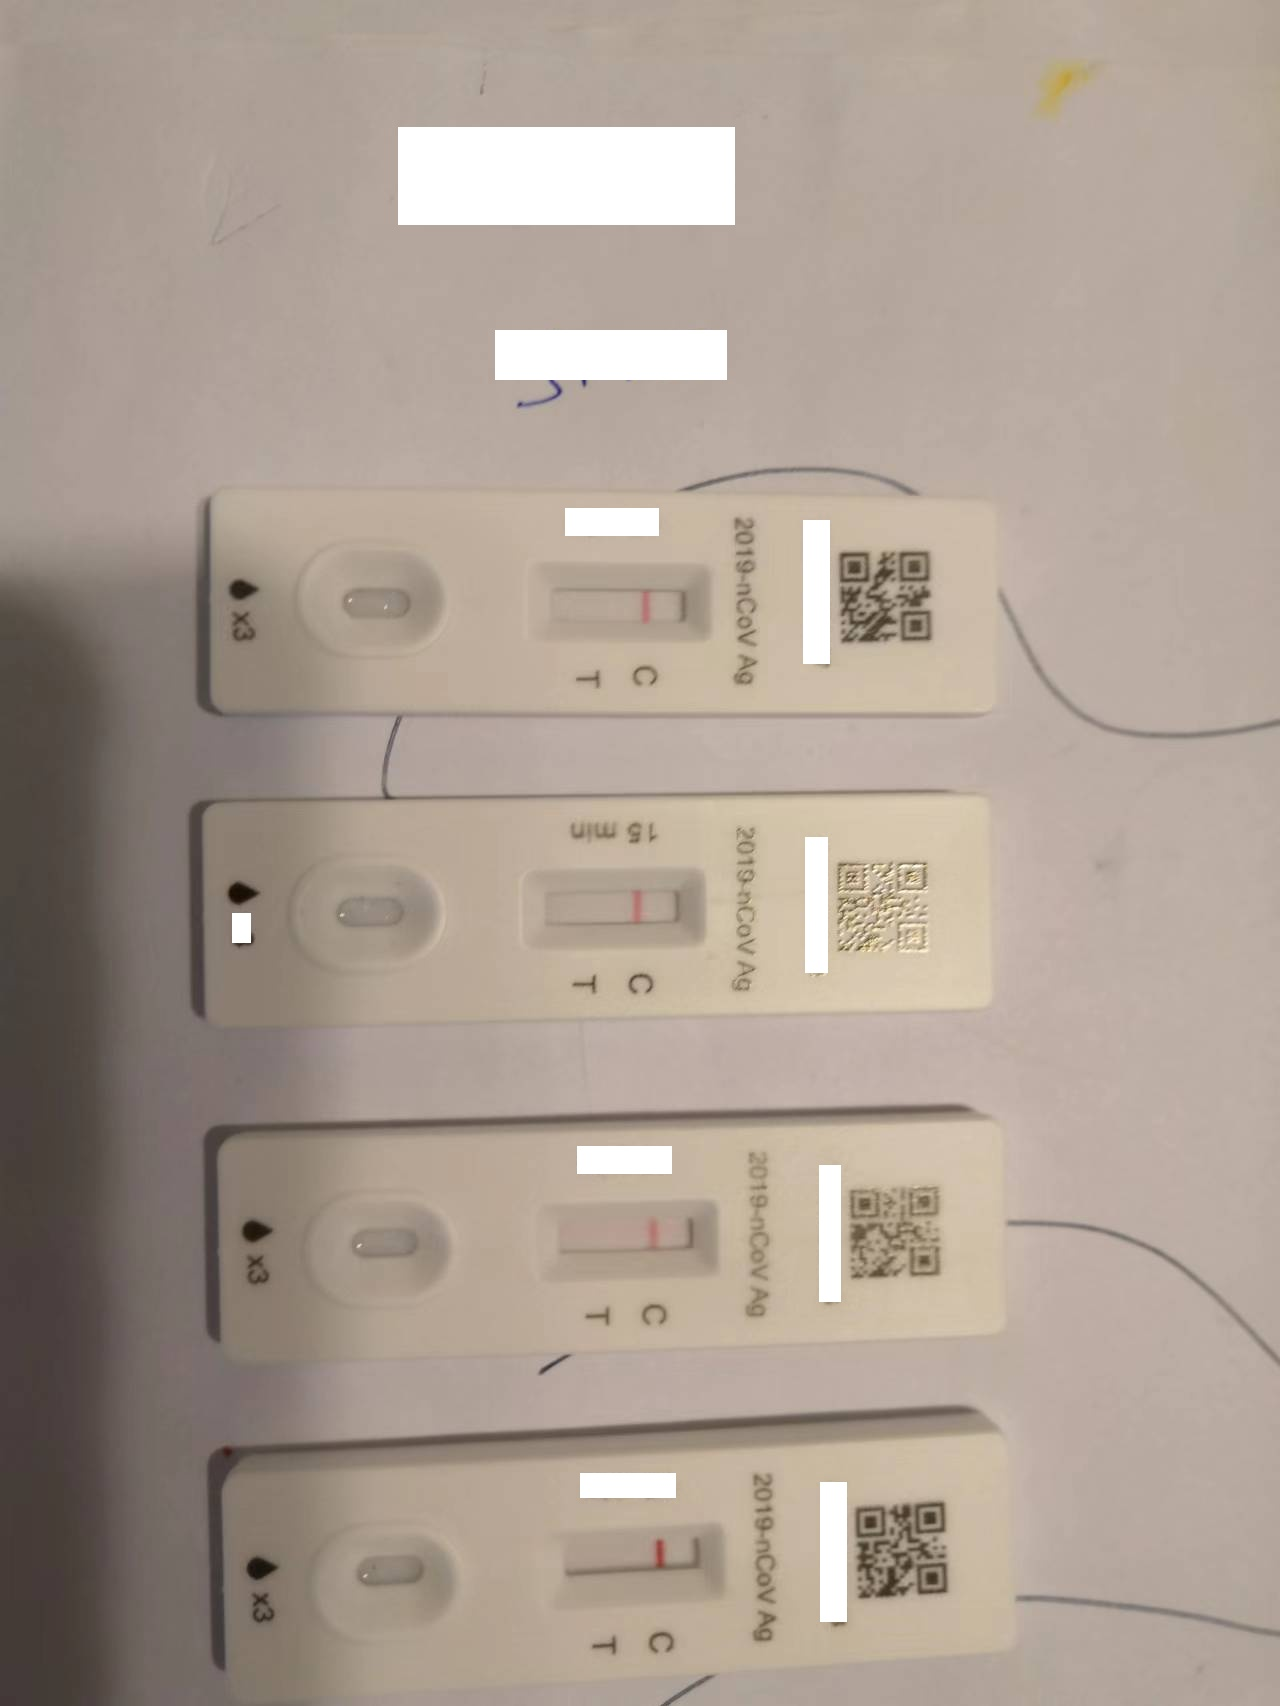negative: (522, 868, 714, 949), (530, 563, 713, 643), (542, 1198, 717, 1278), (559, 1525, 721, 1594)
